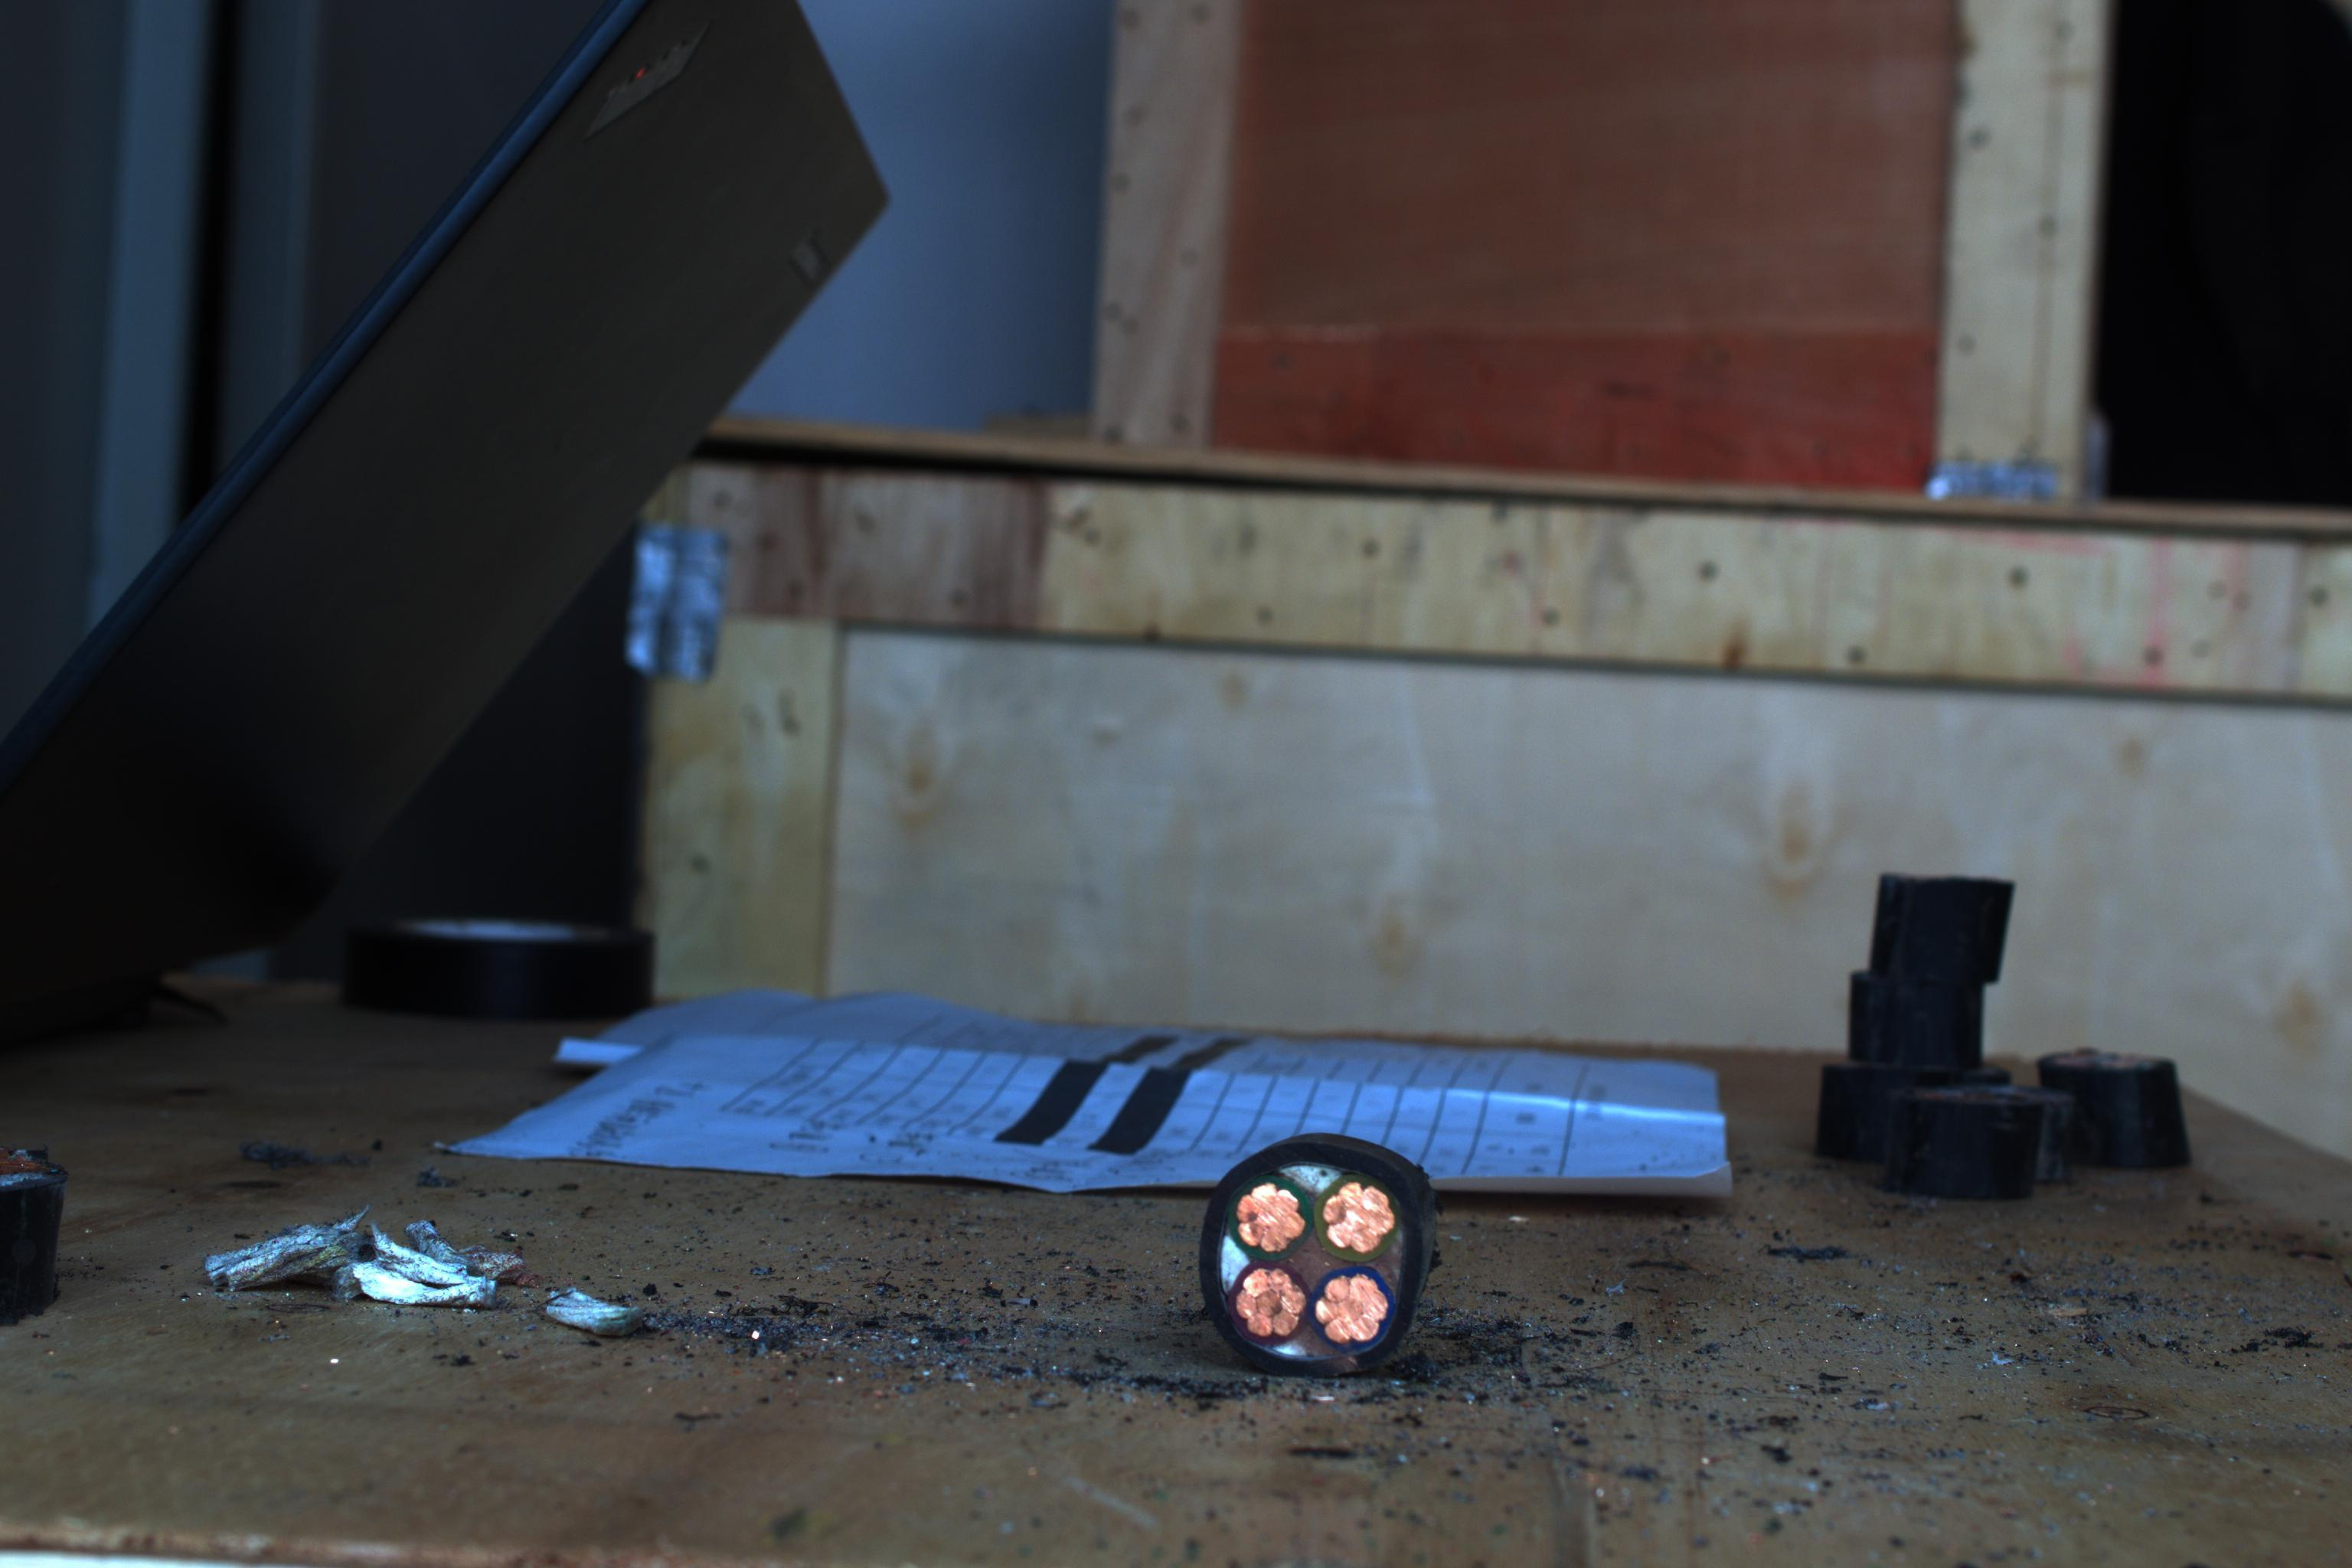YJV_0.6_1kV_4x35: (1193, 1108, 1452, 1370)
